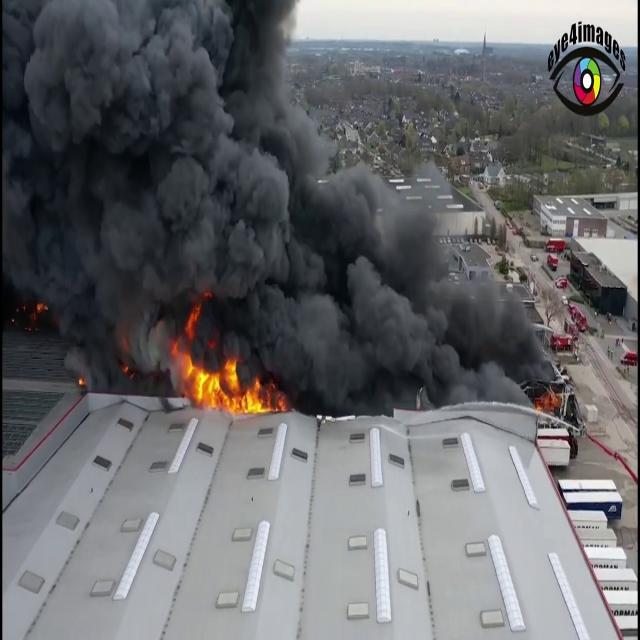Fire: (172, 324, 272, 414)
Smoke: (4, 0, 315, 411), (302, 167, 556, 429)
